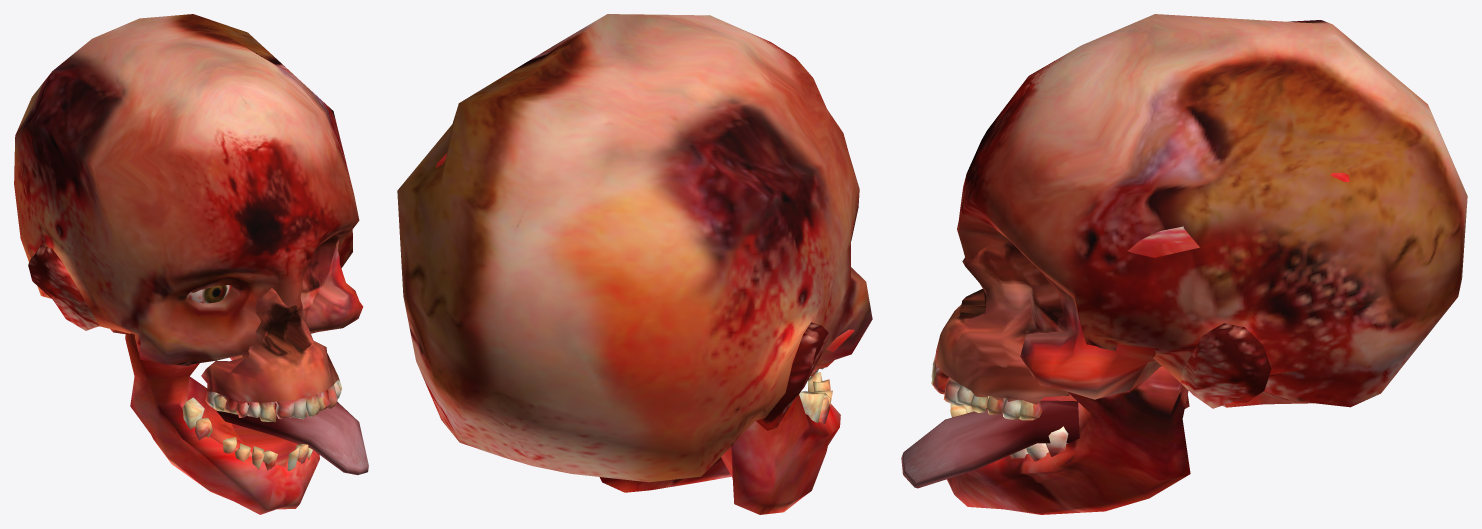
The model's file is male_head_noneck-01.fbx.
3 views of the same model, side by side, from view 1: azimuth 30°, elevation 25°; view 2: azimuth 150°, elevation 25°; view 3: azimuth 270°, elevation 25° (orthographic). The views are drawn at different scales.
Parts seen in each view (by area): view 1: head2; view 2: head2; view 3: head2.
Boxes of the visible parts, x1,y1,x2,y2 form: head2: (14, 14, 368, 514); head2: (397, 14, 872, 514); head2: (901, 14, 1467, 514).
Bounding box in the file's own units: 0.224 × 0.2854 × 0.3097.
